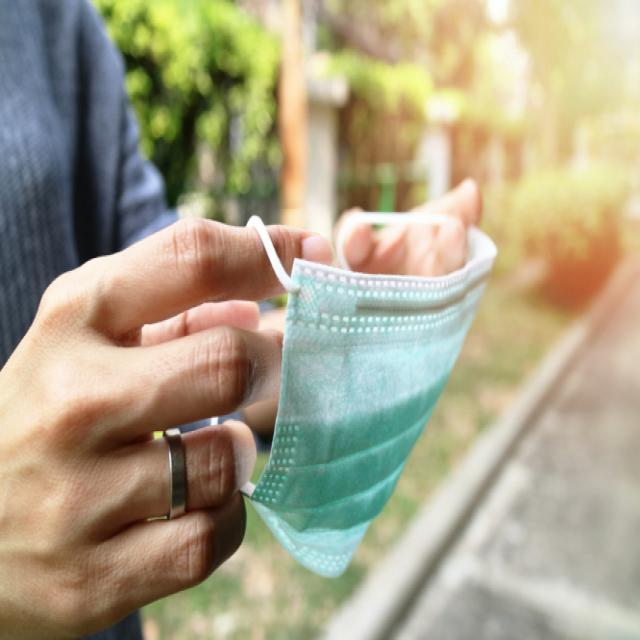face mask: (240, 209, 500, 585)
